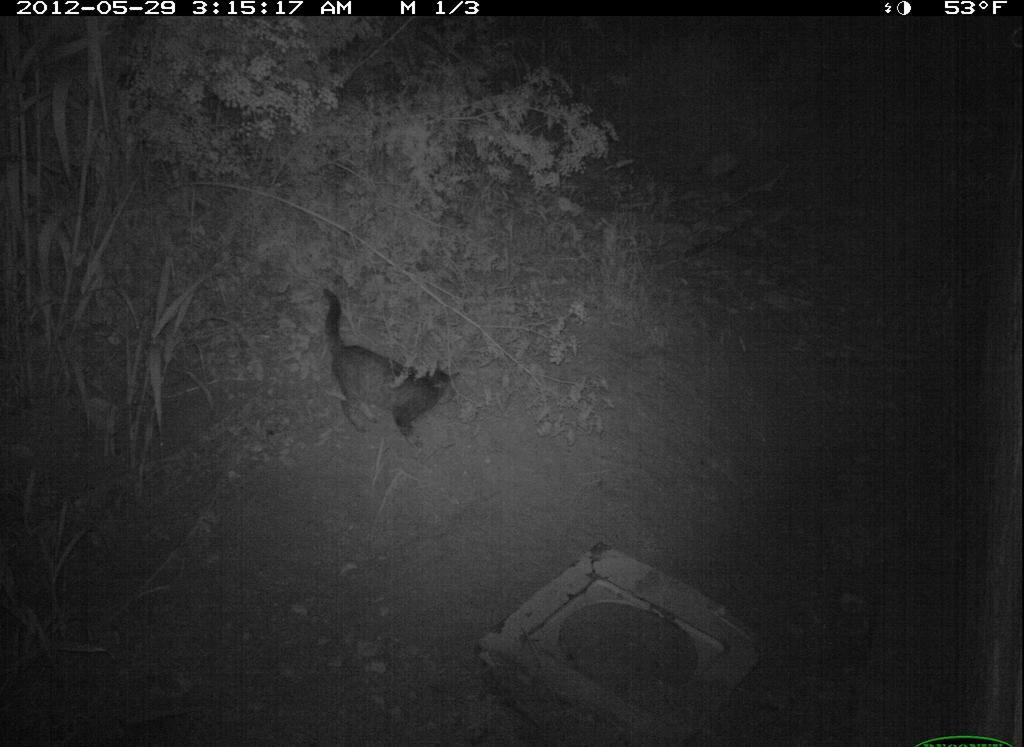cat: (313, 278, 469, 457)
